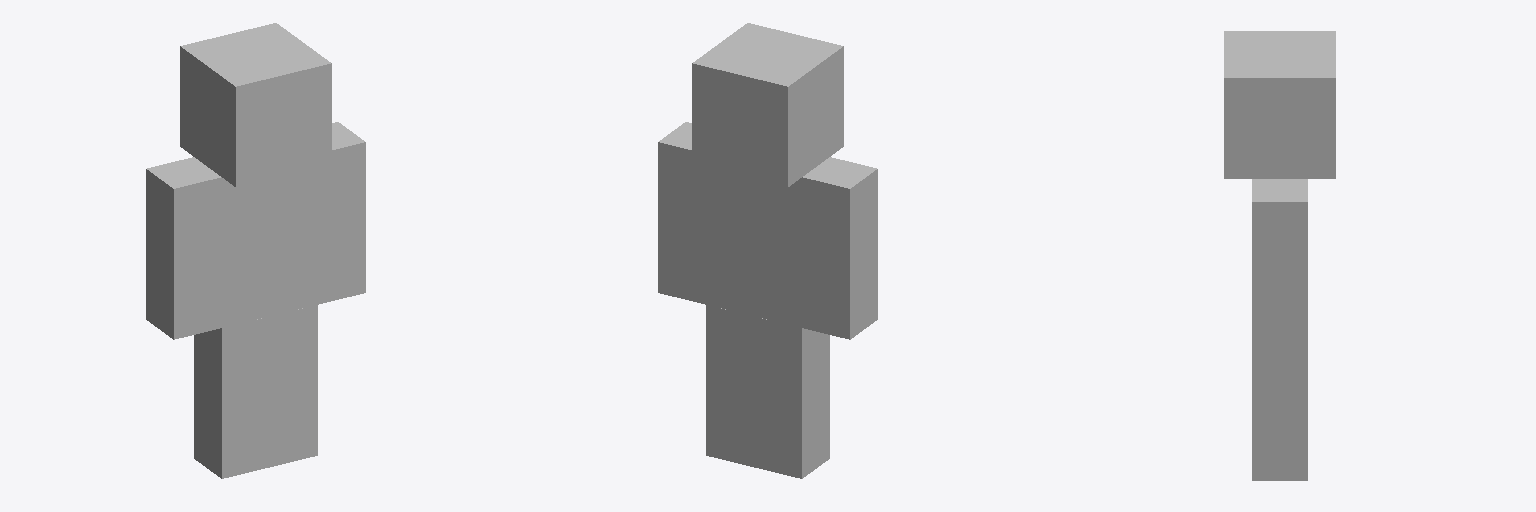
The model's file is mcsteve.obj.
3 views of the same model, side by side, from view 1: azimuth 30°, elevation 25°; view 2: azimuth 150°, elevation 25°; view 3: azimuth 270°, elevation 25° (orthographic).
Visible parts, largest first — view 1: mcsteve; view 2: mcsteve; view 3: mcsteve.
Part boxes in pixels (x1,y1,x2,y2): mcsteve: (146,23,365,478); mcsteve: (658,23,877,478); mcsteve: (1224,31,1335,480).
Size of the model in its own units: 0.9282 by 1.86 by 0.4641.